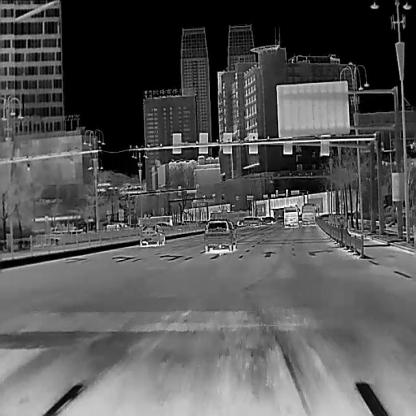bus: (209, 210, 249, 225), (136, 213, 173, 228), (283, 205, 299, 228), (301, 201, 316, 224)
car: (203, 218, 236, 251), (139, 224, 165, 246), (243, 216, 263, 225), (155, 222, 172, 229), (262, 216, 276, 224)
